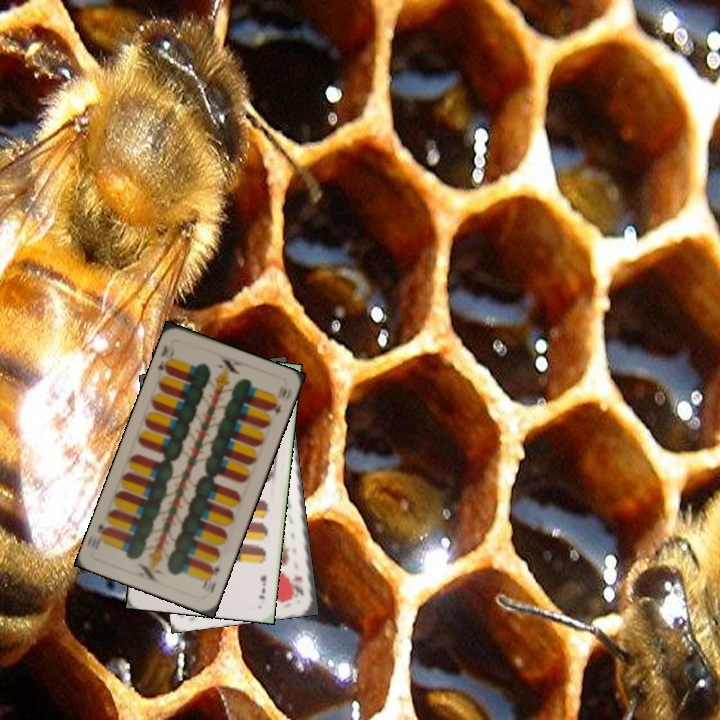E10: (198, 560, 222, 597), (153, 341, 177, 377)
E7: (254, 572, 269, 601)
HK: (291, 571, 307, 598)
